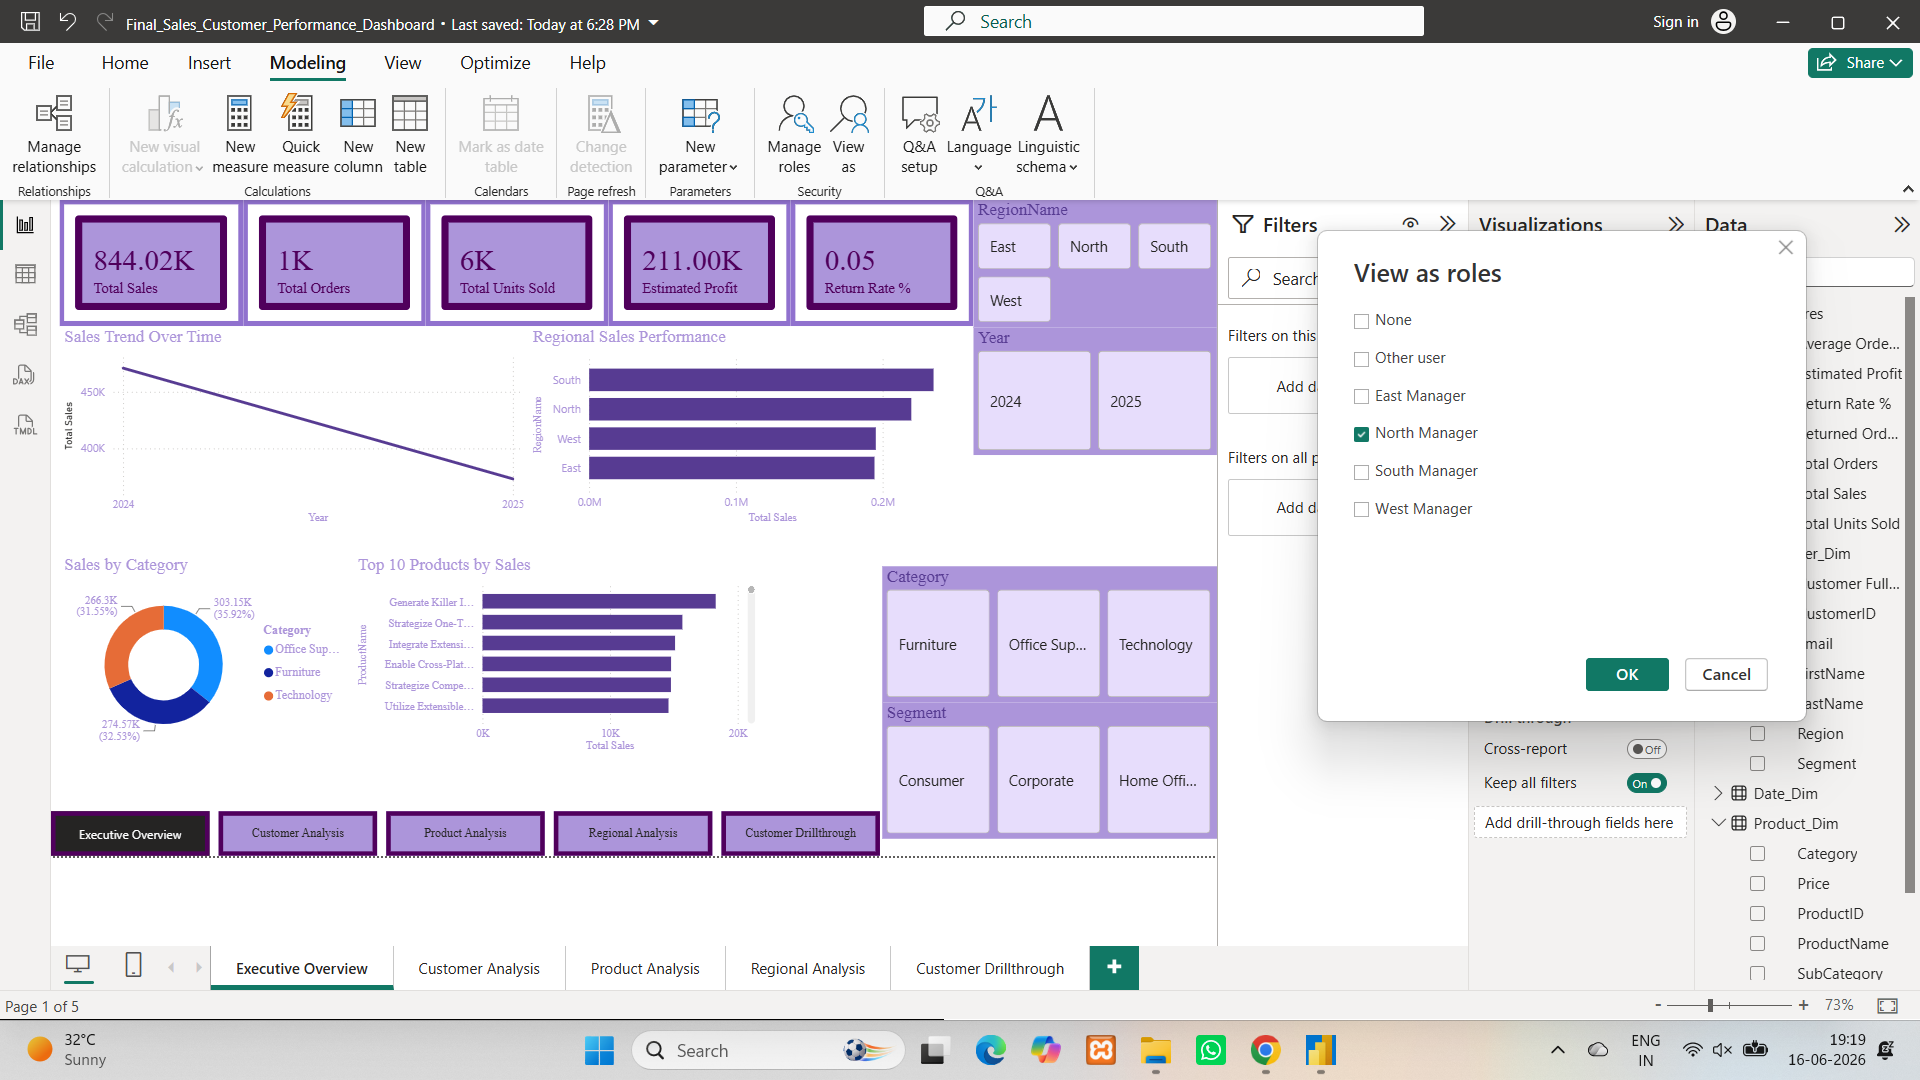

This screenshot's page, from the dashboard's own definition file:
{"tool":"powerbi","page":{"name":"Executive Overview","canvas":[1280,720],"ordinal":0},"visuals":[{"type":"cardVisual","fields":{"Data":["Meassures.Total Sales"]},"box":[9.6,0,201.7,138.6],"z":0},{"type":"cardVisual","fields":{"Data":["Meassures.Total Orders"]},"box":[211.3,0,200.3,138.6],"z":1000},{"type":"cardVisual","fields":{"Data":["Meassures.Total Units Sold"]},"box":[411.7,0,200.3,138.6],"z":2000},{"type":"cardVisual","fields":{"Data":["Meassures.Estimated Profit"]},"box":[612,0,200.3,138.6],"z":3000},{"type":"cardVisual","fields":{"Data":["Meassures.Return Rate %"]},"box":[812.4,0,200.3,138.6],"z":4000},{"type":"lineChart","title":"Sales Trend Over Time","fields":{"Category":["Date_Dim.Date.Variation.Date Hierarchy.Year","Date_Dim.Date.Variation.Date Hierarchy.Quarter","Date_Dim.Date.Variation.Date Hierarchy.Month","Date_Dim.Date.Variation.Date Hierarchy.Day"],"Y":["Meassures.Total Sales"]},"box":[9.6,138.6,514.6,220.9],"z":5000},{"type":"clusteredBarChart","title":"Regional Sales Performance","fields":{"Category":["Region_Dim.RegionName"],"Y":["Meassures.Total Sales"]},"box":[524.2,138.6,488.5,220.9],"z":6000},{"type":"donutChart","title":" Sales by Category","fields":{"Category":["Product_Dim.Category"],"Y":["Meassures.Total Sales"]},"box":[9.6,389.7,322.5,220.9],"z":7000},{"type":"clusteredBarChart","title":"Top 10 Products by Sales","fields":{"Category":["Product_Dim.ProductName"],"Y":["Meassures.Total Sales"]},"box":[332.1,389.7,446,220.9],"z":8000},{"type":"advancedSlicerVisual","fields":{"Values":["Date_Dim.Year"]},"box":[1012.7,140,267.6,140],"z":9000},{"type":"advancedSlicerVisual","fields":{"Values":["Region_Dim.RegionName"]},"box":[1012.7,0,267.6,140],"z":10000},{"type":"advancedSlicerVisual","fields":{"Values":["Customer_Dim.Segment"]},"box":[912.5,551.6,367.8,149.6],"z":11000},{"type":"advancedSlicerVisual","fields":{"Values":["Product_Dim.Category"]},"box":[912.5,402.1,367.8,149.6],"z":12000}]}

Visuals, with their boxes on the page's 1280x720 design canvas (x1, y1, x2, y2). These are canvas units, not pixel positions in the 1920x1080 screenshot, which may show the page scaled, cropped or inside an application window:
cardVisual - Meassures.Total Sales: crop(10, 0, 211, 139)
cardVisual - Meassures.Total Orders: crop(211, 0, 412, 139)
cardVisual - Meassures.Total Units Sold: crop(412, 0, 612, 139)
cardVisual - Meassures.Estimated Profit: crop(612, 0, 812, 139)
cardVisual - Meassures.Return Rate %: crop(812, 0, 1013, 139)
"Sales Trend Over Time" lineChart: crop(10, 139, 524, 360)
"Regional Sales Performance" clusteredBarChart: crop(524, 139, 1013, 360)
" Sales by Category" donutChart: crop(10, 390, 332, 611)
"Top 10 Products by Sales" clusteredBarChart: crop(332, 390, 778, 611)
advancedSlicerVisual - Date_Dim.Year: crop(1013, 140, 1280, 280)
advancedSlicerVisual - Region_Dim.RegionName: crop(1013, 0, 1280, 140)
advancedSlicerVisual - Customer_Dim.Segment: crop(912, 552, 1280, 701)
advancedSlicerVisual - Product_Dim.Category: crop(912, 402, 1280, 552)
